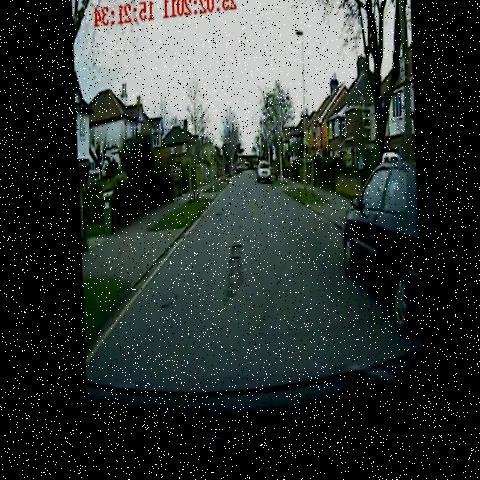pothole: (211, 242, 252, 317), (150, 295, 177, 322), (230, 211, 248, 241), (211, 212, 224, 232)
